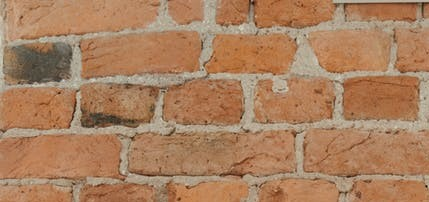brick: (129, 130, 297, 174), (2, 132, 122, 179), (303, 129, 429, 173), (83, 33, 205, 75), (1, 1, 157, 31), (164, 76, 244, 126), (209, 31, 298, 73), (80, 84, 163, 128), (251, 78, 332, 123), (342, 76, 420, 121), (1, 85, 77, 130), (316, 30, 391, 72), (4, 40, 72, 84), (256, 1, 337, 28), (166, 181, 249, 202), (352, 181, 427, 202), (261, 182, 337, 202), (397, 27, 429, 72), (345, 4, 419, 23), (1, 185, 74, 202), (81, 185, 146, 202), (213, 1, 250, 24), (167, 1, 204, 22)
